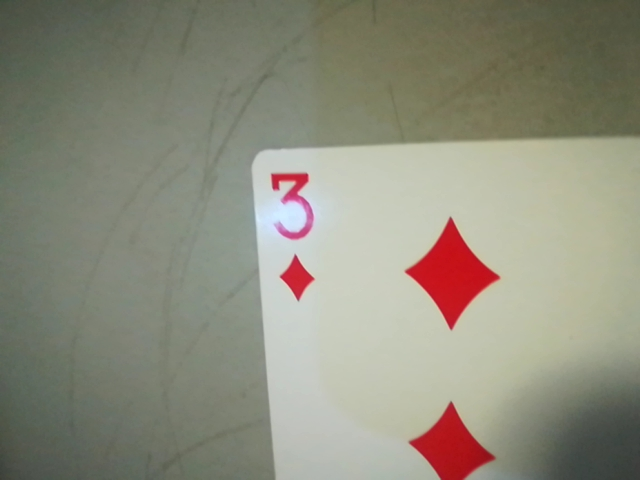fk 3: (257, 160, 330, 308)
